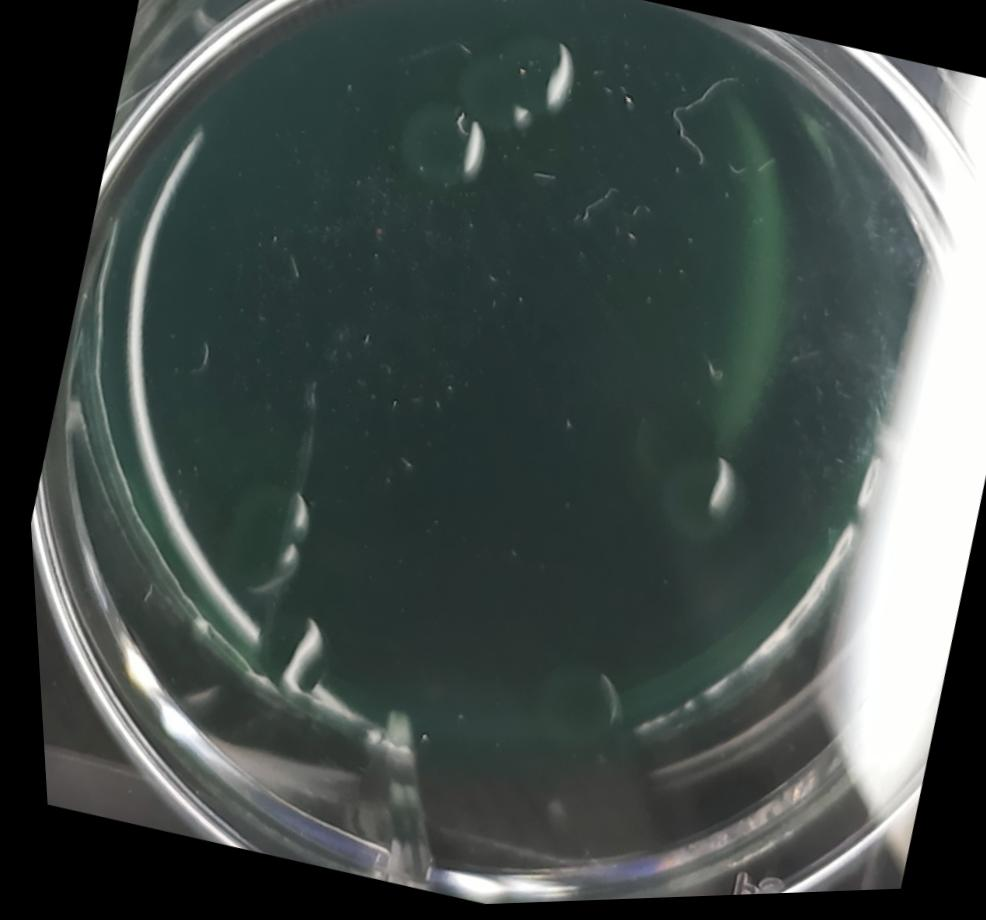vproteolyticus: (612, 412, 763, 566), (443, 12, 586, 151), (198, 471, 324, 606), (382, 91, 502, 206), (514, 649, 627, 758), (236, 597, 337, 710)
